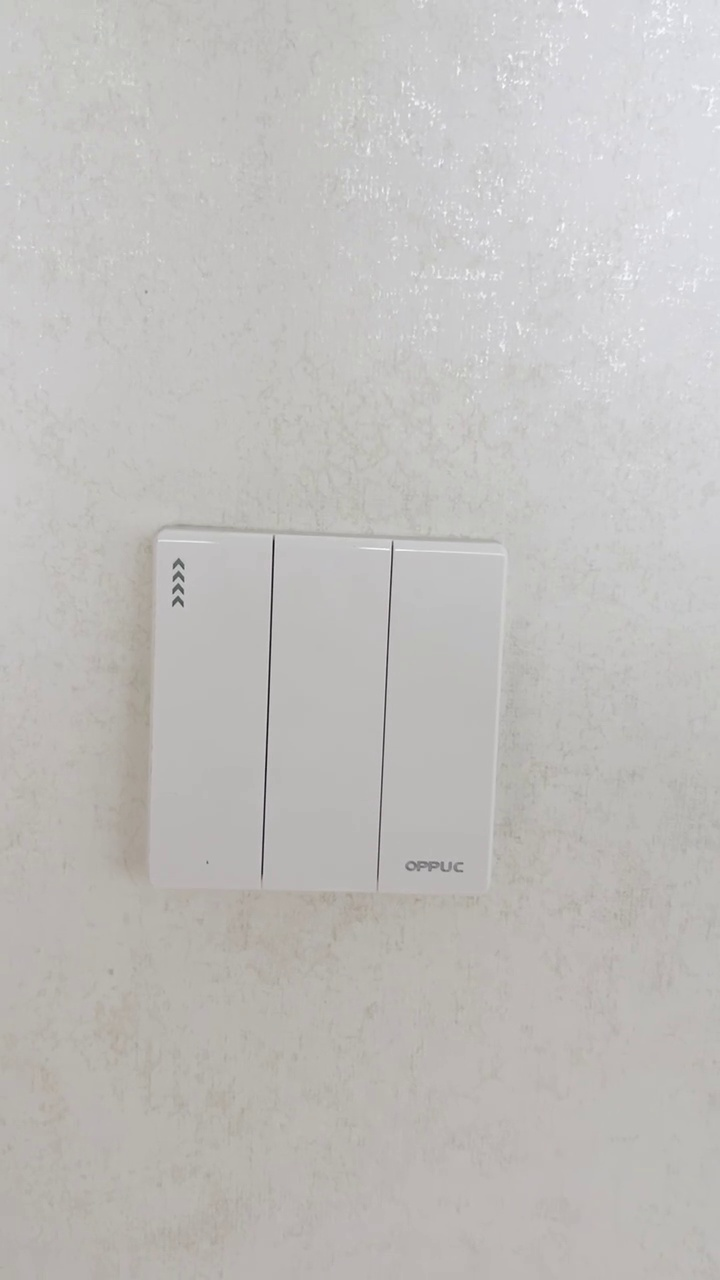button1: (269, 544, 385, 891), (385, 542, 498, 892), (159, 538, 268, 883)
